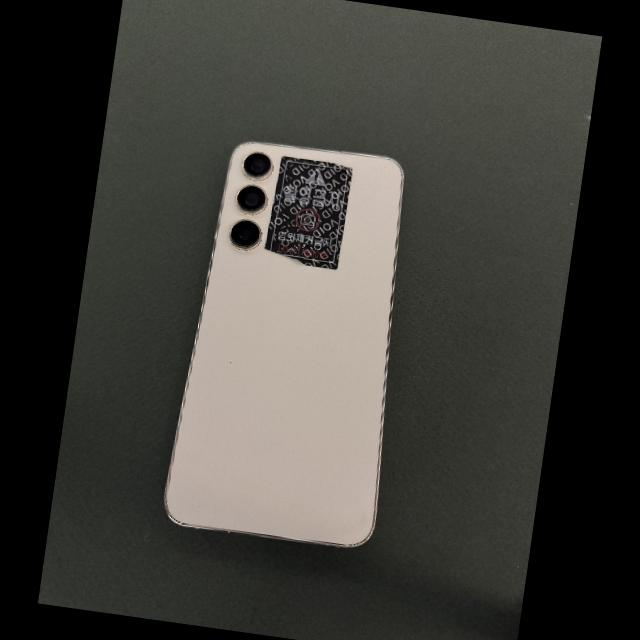lens: (230, 220, 261, 249), (237, 185, 266, 214), (243, 152, 272, 180)
phone: (165, 143, 403, 547)
sticker: (264, 157, 353, 270)
